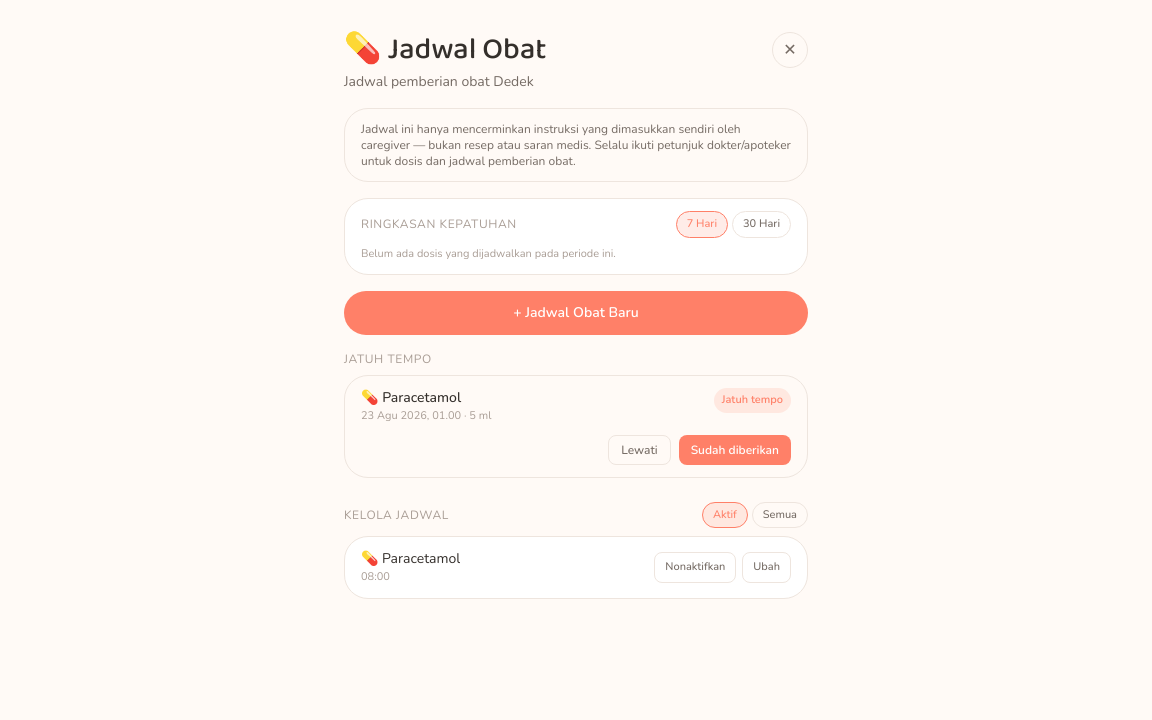
Scenario: MedicationScheduleScreen — administer/skip flow › shows a deterministic conflict message and refreshes when the occurrence was already resolved by another caregiver
Click the button "Sudah diberikan".
click(735, 450)  # box [679, 434, 791, 464]
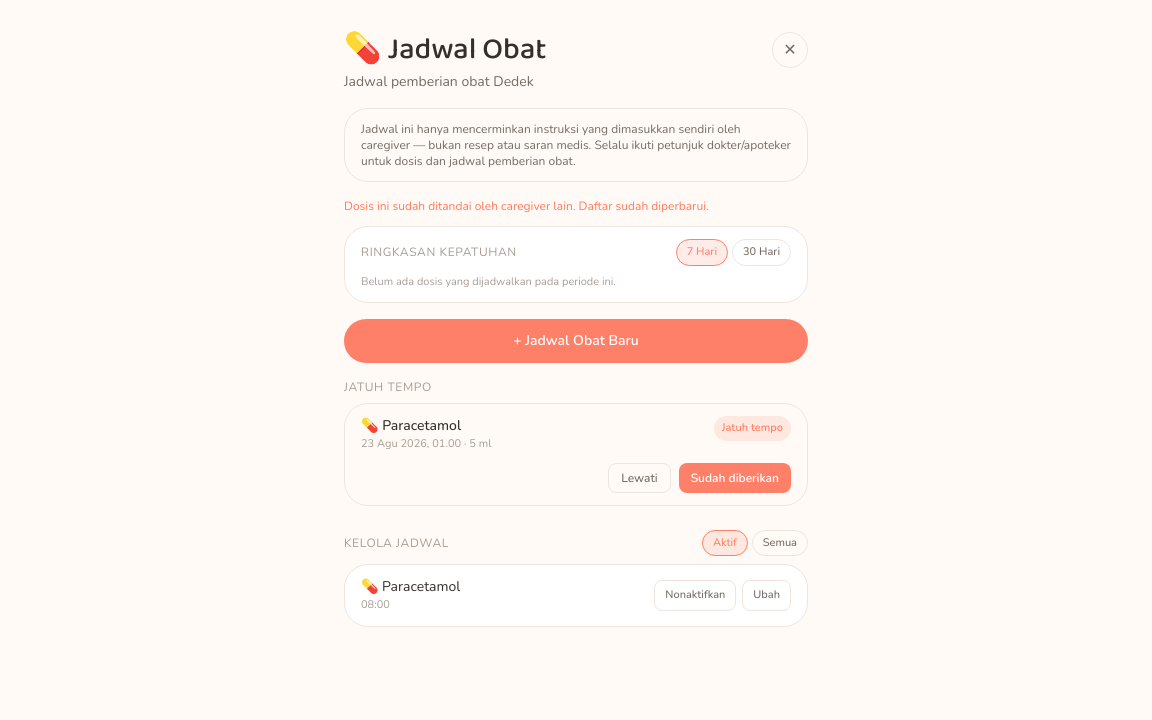
Now the text "sudah ditandai oleh caregiver lain" is shown, box [344, 198, 709, 214]
